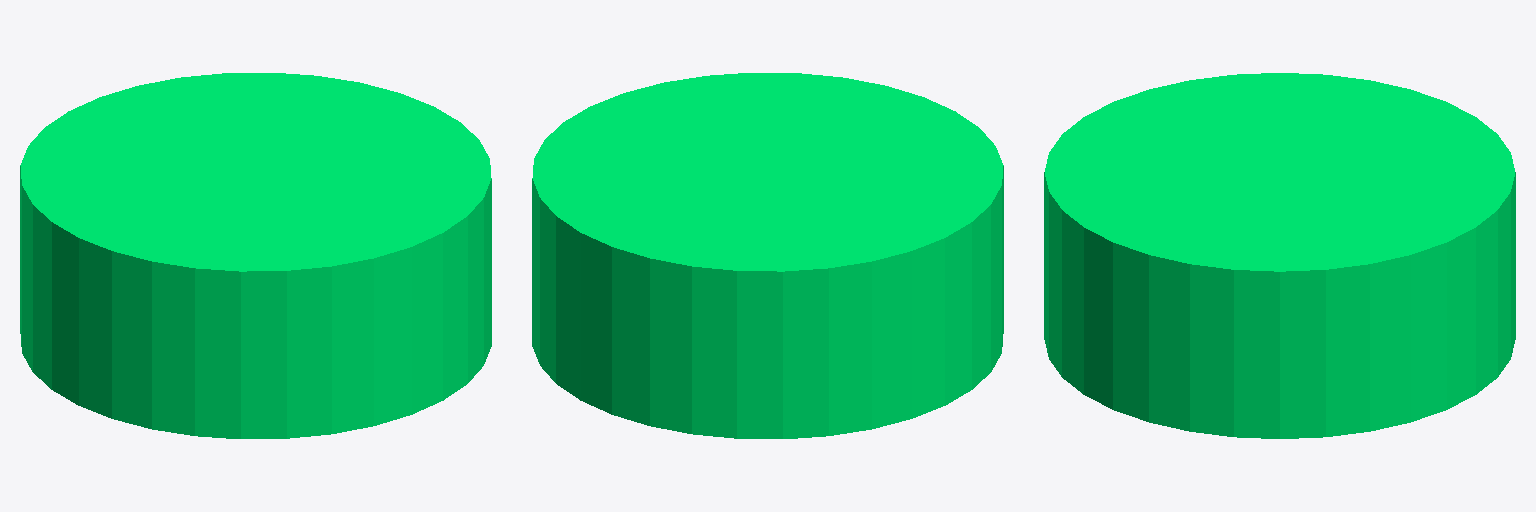
URDF robot description (myfirst):
<?xml version="1.0"?>
 <robot name="myfirst">
   <material name="green">
     <color rgba="0 1 0.498 1"/>
   </material>
   <link name="right_leg">
     <visual>
       <geometry>
         <cylinder length="0.03429" radius="0.043688"/>
       </geometry>
       <origin xyz="0 0 0" rpy="0 0 0"/>
       <material name="green"/>
     </visual>
     <collision>
       <geometry>
         <cylinder length="0.03429" radius="0.043688"/>
       </geometry>
       <origin xyz="0 0 0" rpy="0 0 0"/>
     </collision>
     <inertial>
       <mass value="1"/>
       <inertia ixx="1.0" ixy="0.0" ixz="0.0" iyy="1.0" iyz="0.0" izz="1.0"/>
     </inertial>
   </link>
 </robot>

--- Render facts (derived) ---
Views: 3 orthographic renders of the robot side by side, from view 1: azimuth 30°, elevation 25°; view 2: azimuth 150°, elevation 25°; view 3: azimuth 270°, elevation 25°.
Robot: myfirst — 1 links, 0 joints (none); root link right_leg; default pose: all joints at 0.
Links seen in each view (by area): view 1: right_leg; view 2: right_leg; view 3: right_leg.
Boxes of the visible links, x1,y1,x2,y2 form: right_leg: (20, 73, 491, 438); right_leg: (532, 73, 1003, 438); right_leg: (1044, 73, 1515, 438).
Bounding box of the posed robot: 0.0874 × 0.0874 × 0.0343 m (x, y, z).
Geometry: primitives only (box / cylinder / sphere), no mesh files.